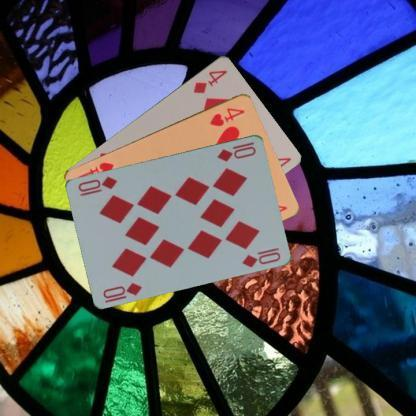10d: (214, 138, 257, 164), (100, 280, 144, 304)
4d: (191, 67, 228, 95)
4h: (206, 105, 247, 127)
